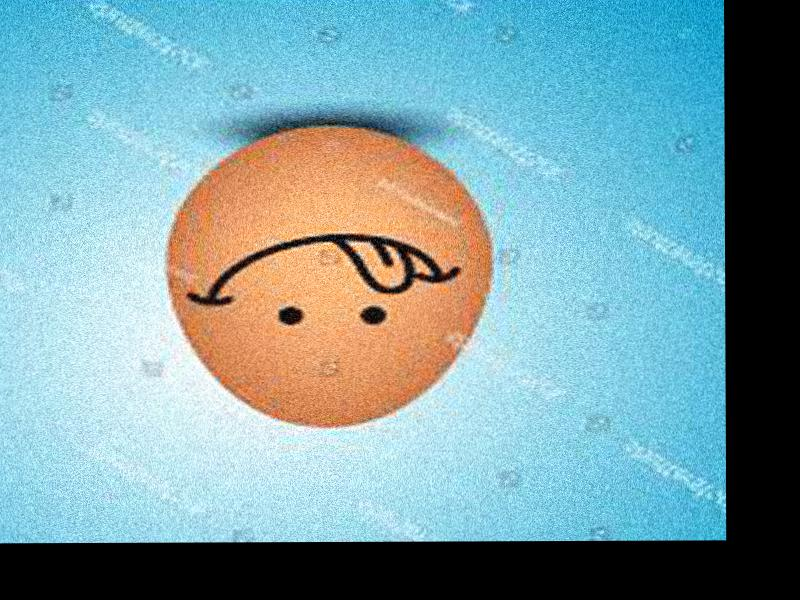Eggs: (164, 124, 494, 428)
